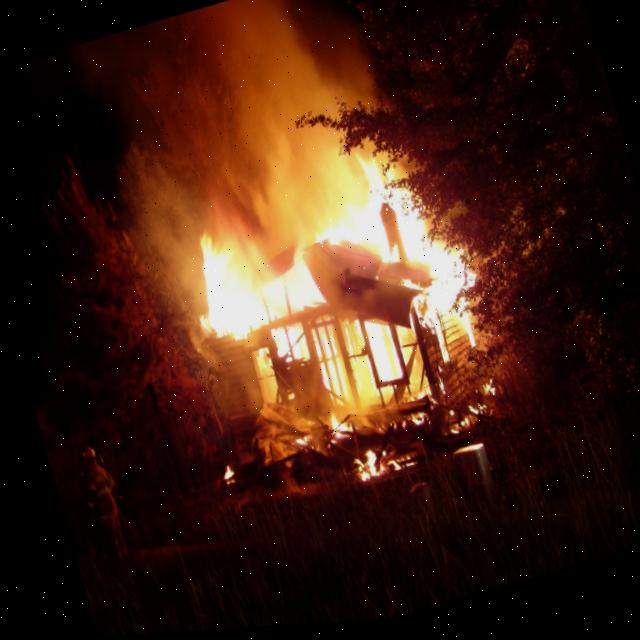fire: (197, 147, 480, 483)
smoke: (3, 0, 371, 402)
